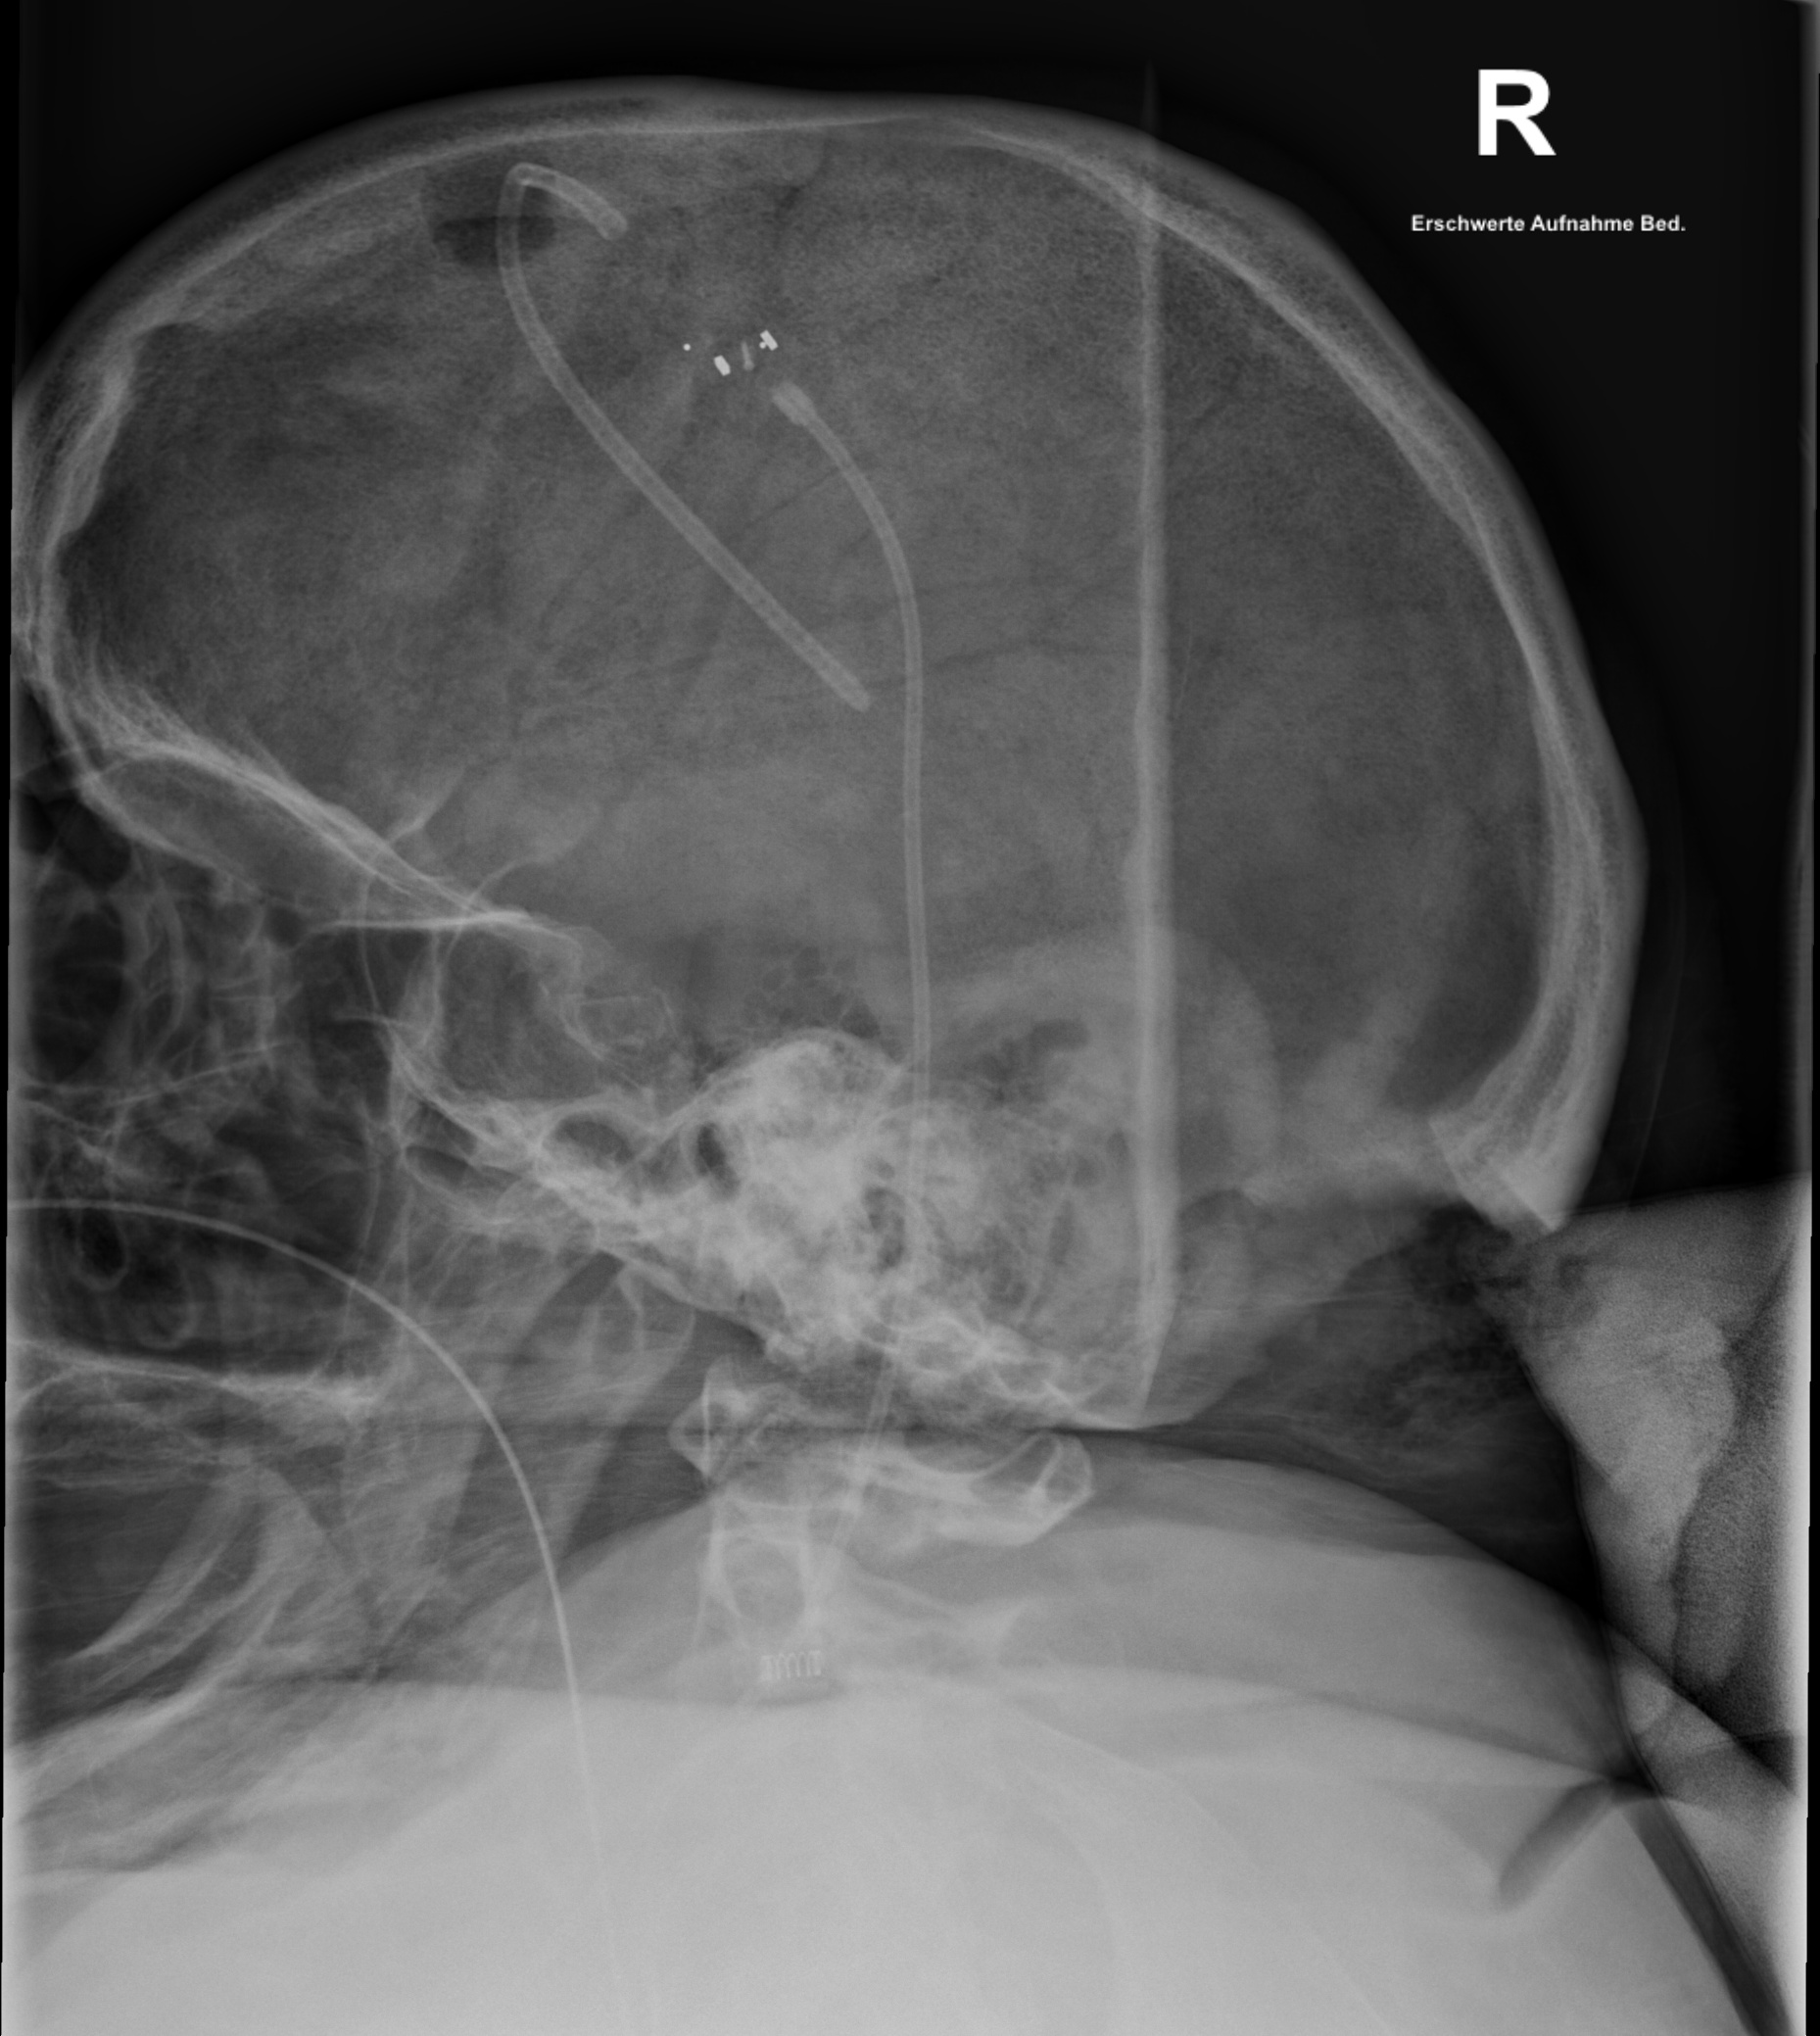Codman Certas: (671, 307, 792, 402)
